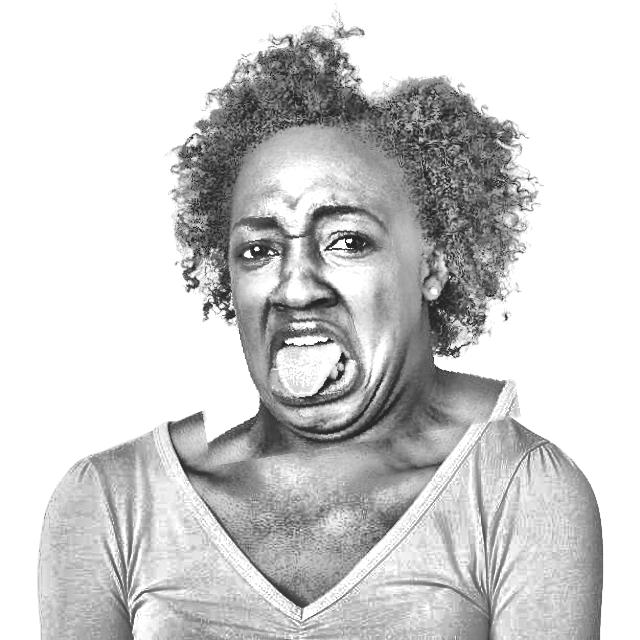disgust: (163, 31, 507, 455)
